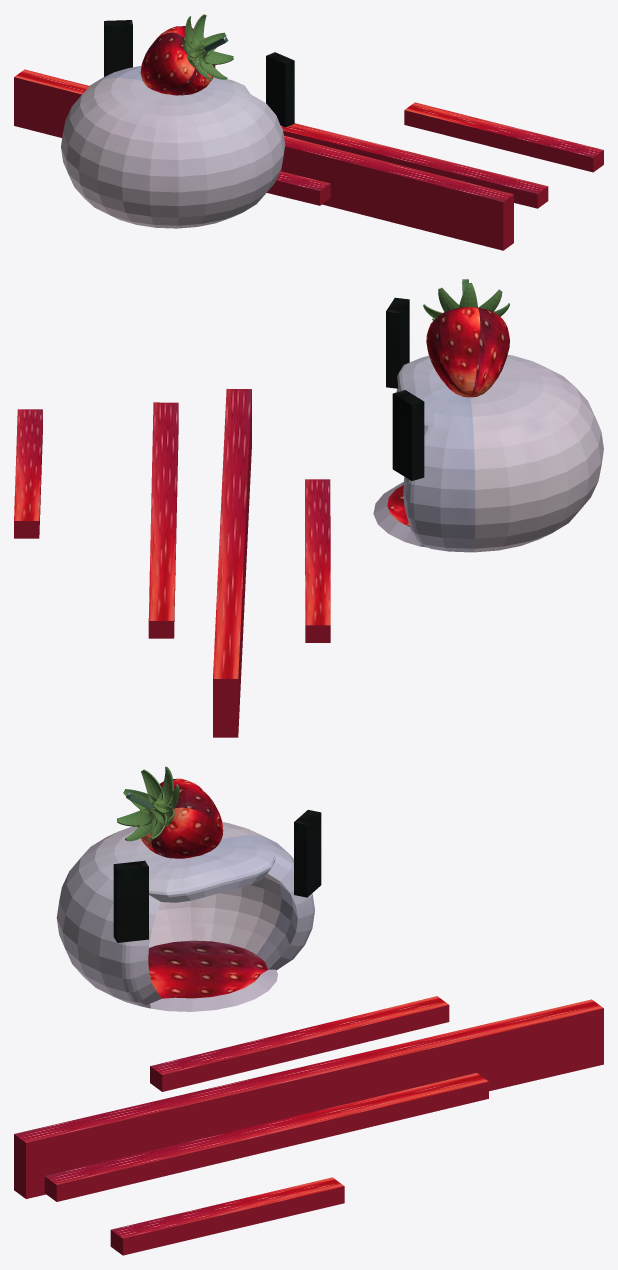
Rendered from 草莓大福舞台.fbx.
3 renders of one model, top to bottom at view 1: azimuth 30°, elevation 25°; view 2: azimuth 150°, elevation 25°; view 3: azimuth 270°, elevation 25°, orthographic. The views are drawn at different scales.
Parts seen in each view (by area): view 1: Sphere.014, 全區路.006, 全區路.004, 全區路.005, 全區路.007; view 2: Sphere.014, 全區路.006, 全區路.005, 全區路.007, 全區路.004; view 3: Sphere.014, 全區路.006, 全區路.005, 全區路.007, 全區路.004.
Boxes of the visible parts, <box> form: Sphere.014: <box>61,14,294,228</box>; 全區路.006: <box>14,69,513,250</box>; 全區路.004: <box>404,102,603,172</box>; 全區路.005: <box>281,123,548,208</box>; 全區路.007: <box>267,171,330,205</box>; Sphere.014: <box>373,279,603,552</box>; 全區路.006: <box>213,388,251,737</box>; 全區路.005: <box>148,402,178,638</box>; 全區路.007: <box>305,479,330,642</box>; 全區路.004: <box>14,409,42,538</box>; Sphere.014: <box>56,766,321,1011</box>; 全區路.006: <box>14,999,603,1198</box>; 全區路.005: <box>44,1073,488,1201</box>; 全區路.007: <box>150,996,449,1091</box>; 全區路.004: <box>110,1177,344,1255</box>.
Bounding box in the file's own units: 4107 × 1929 × 3633.
